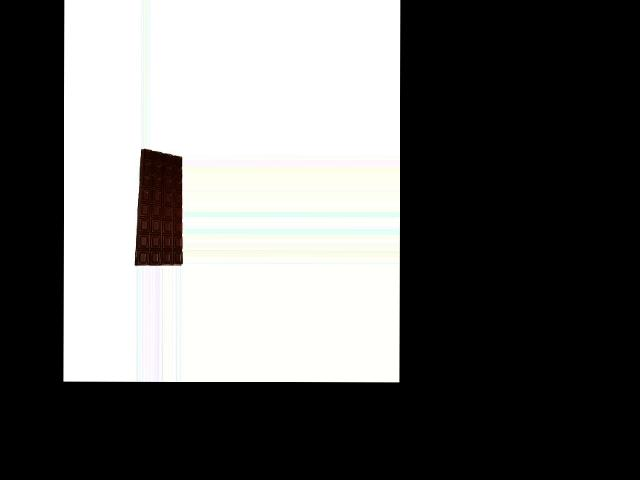chocolate: (136, 147, 182, 266)
